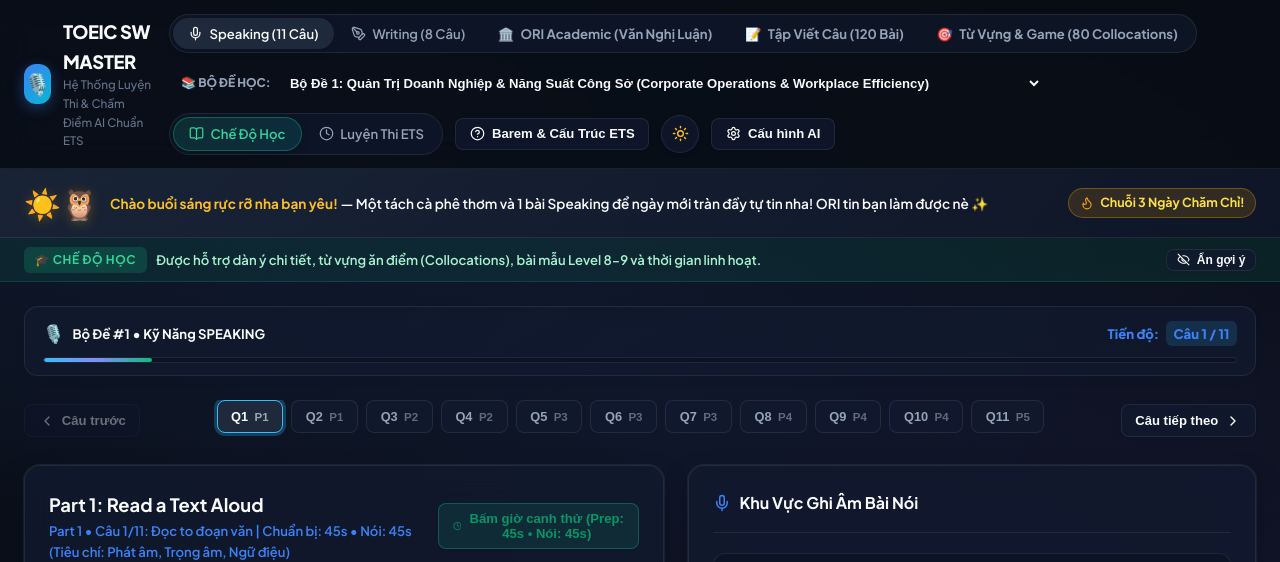
Test: App Component › switches between Speaking and Writing sections
Click the button "Writing (8 Câu)": (408, 33) [336, 18, 480, 49]
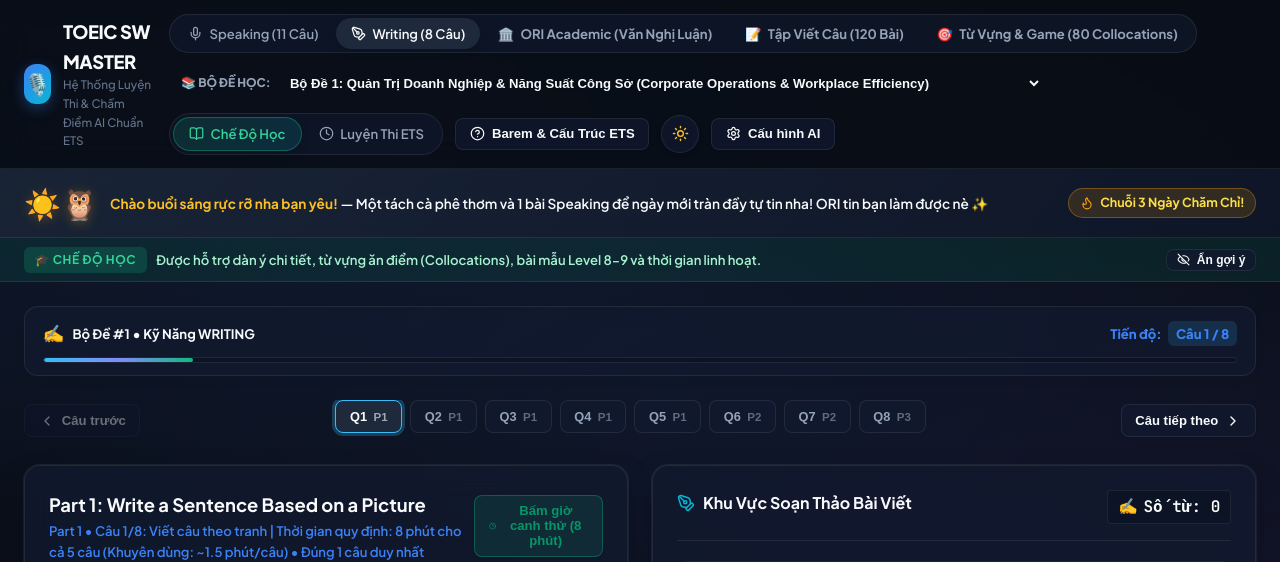
Expected: the heading "Khu Vực Soạn Thảo Bài Viết" is shown, [677, 490, 912, 516]
Expected: the text "Số từ: 0" is shown, [1144, 494, 1220, 520]
